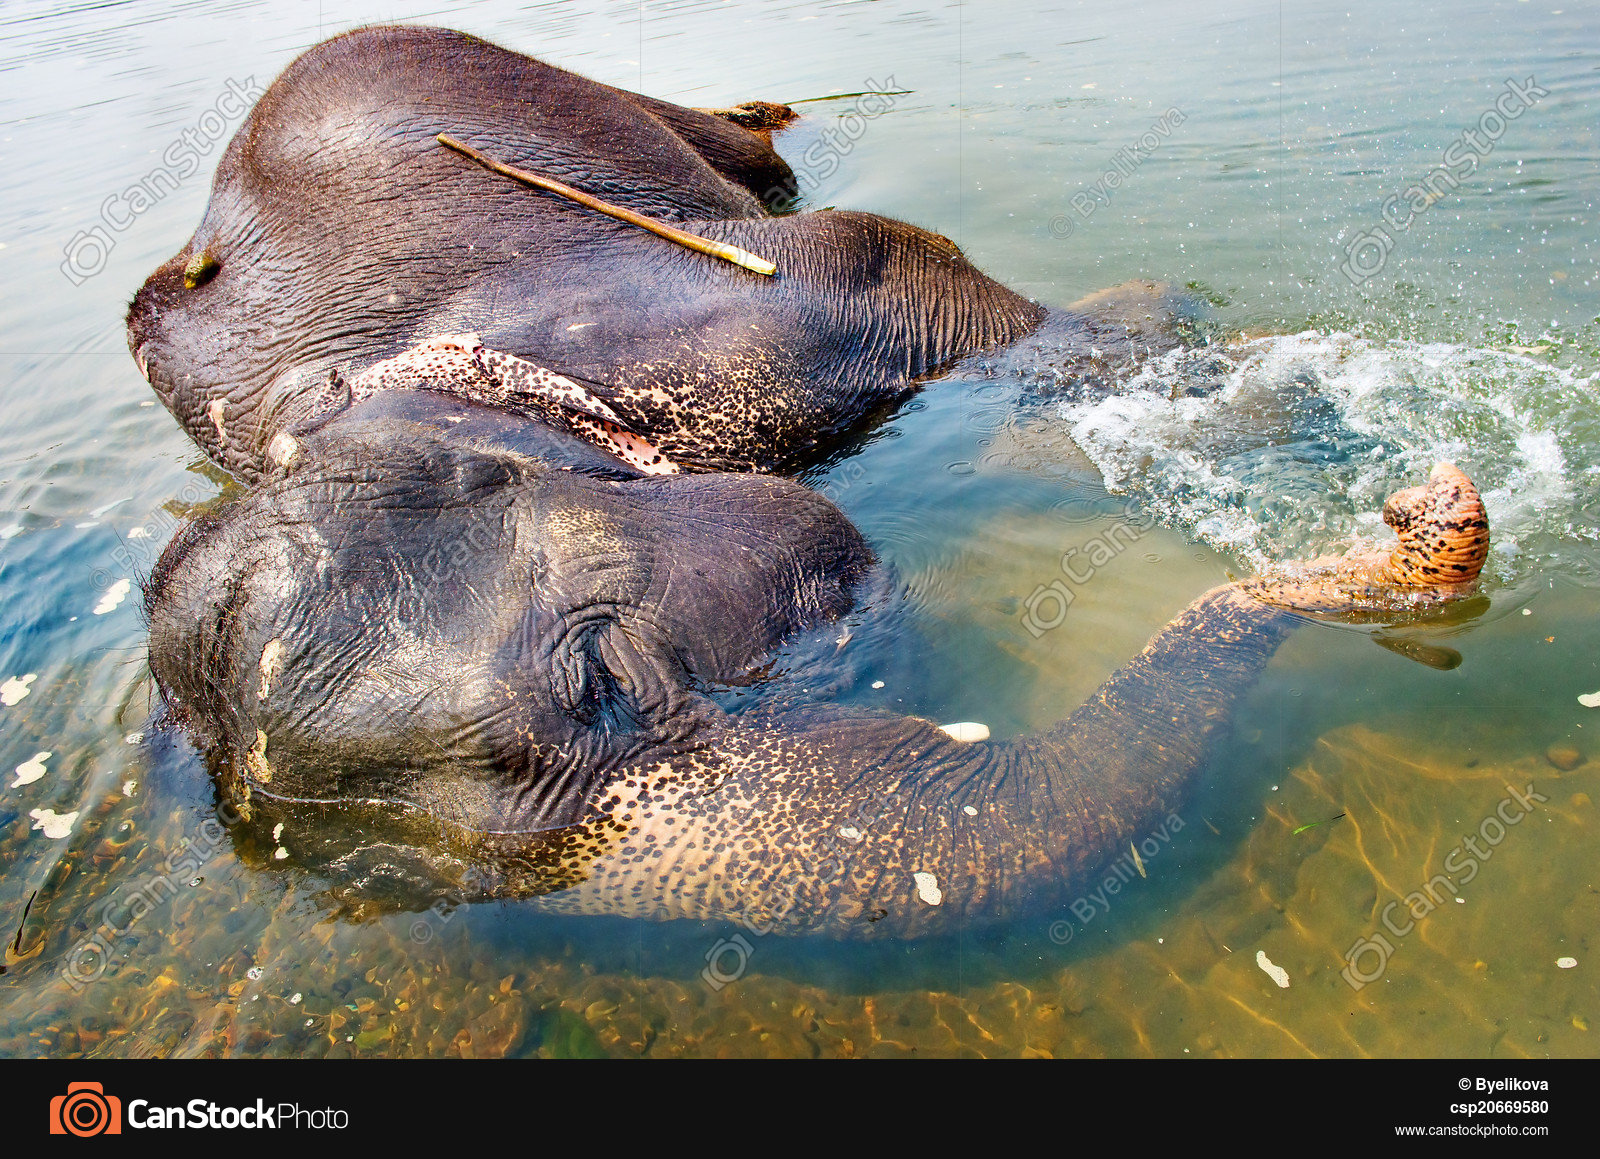elephant: (118, 30, 1523, 945)
